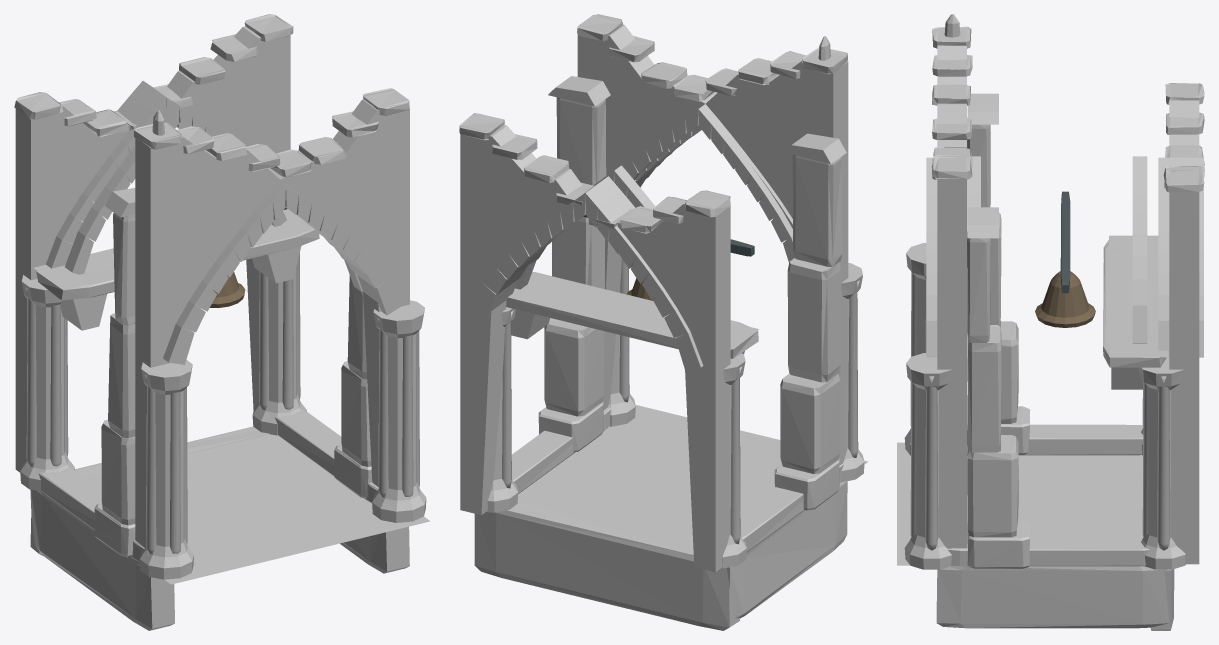
File: spire_bay.glb
3 views of the same model, side by side, from view 1: azimuth 30°, elevation 25°; view 2: azimuth 150°, elevation 25°; view 3: azimuth 270°, elevation 25° (orthographic). The views are drawn at different scales.
Visible parts, largest first — view 1: spire_bay__masonry, spire_bay__dressed_stone, spire_bay__paving, spire_bay__bronze; view 2: spire_bay__masonry, spire_bay__dressed_stone, spire_bay__paving; view 3: spire_bay__masonry, spire_bay__dressed_stone, spire_bay__paving, spire_bay__bronze, spire_bay__iron.
Boxes of the visible parts, x1,y1,x2,y2 form: spire_bay__masonry: (15, 26, 409, 630); spire_bay__dressed_stone: (14, 14, 426, 579); spire_bay__paving: (33, 209, 430, 584); spire_bay__bronze: (210, 272, 245, 307); spire_bay__masonry: (460, 24, 848, 630); spire_bay__dressed_stone: (459, 14, 864, 568); spire_bay__paving: (508, 273, 867, 542); spire_bay__masonry: (936, 45, 1199, 630); spire_bay__dressed_stone: (904, 14, 1204, 569); spire_bay__paving: (897, 235, 1168, 565); spire_bay__bronze: (1035, 271, 1095, 327); spire_bay__iron: (1060, 191, 1070, 293).
Bounding box in the file's own units: 4.66 × 8.03 × 4.44.
